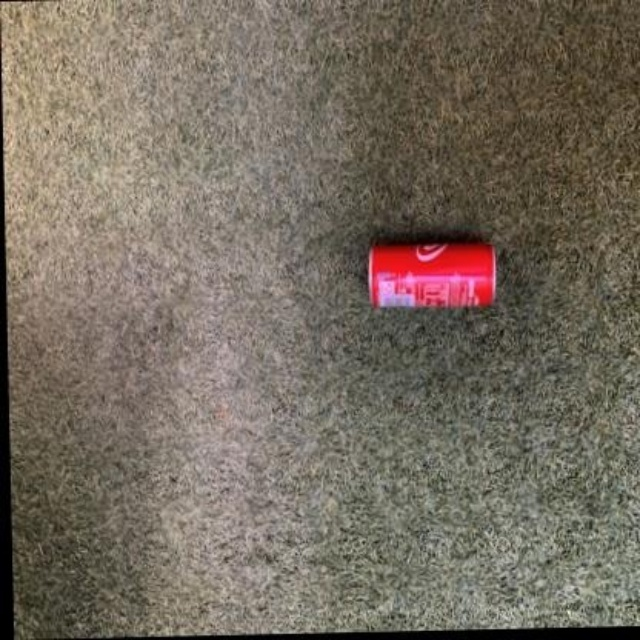trash: (369, 243, 494, 306)
